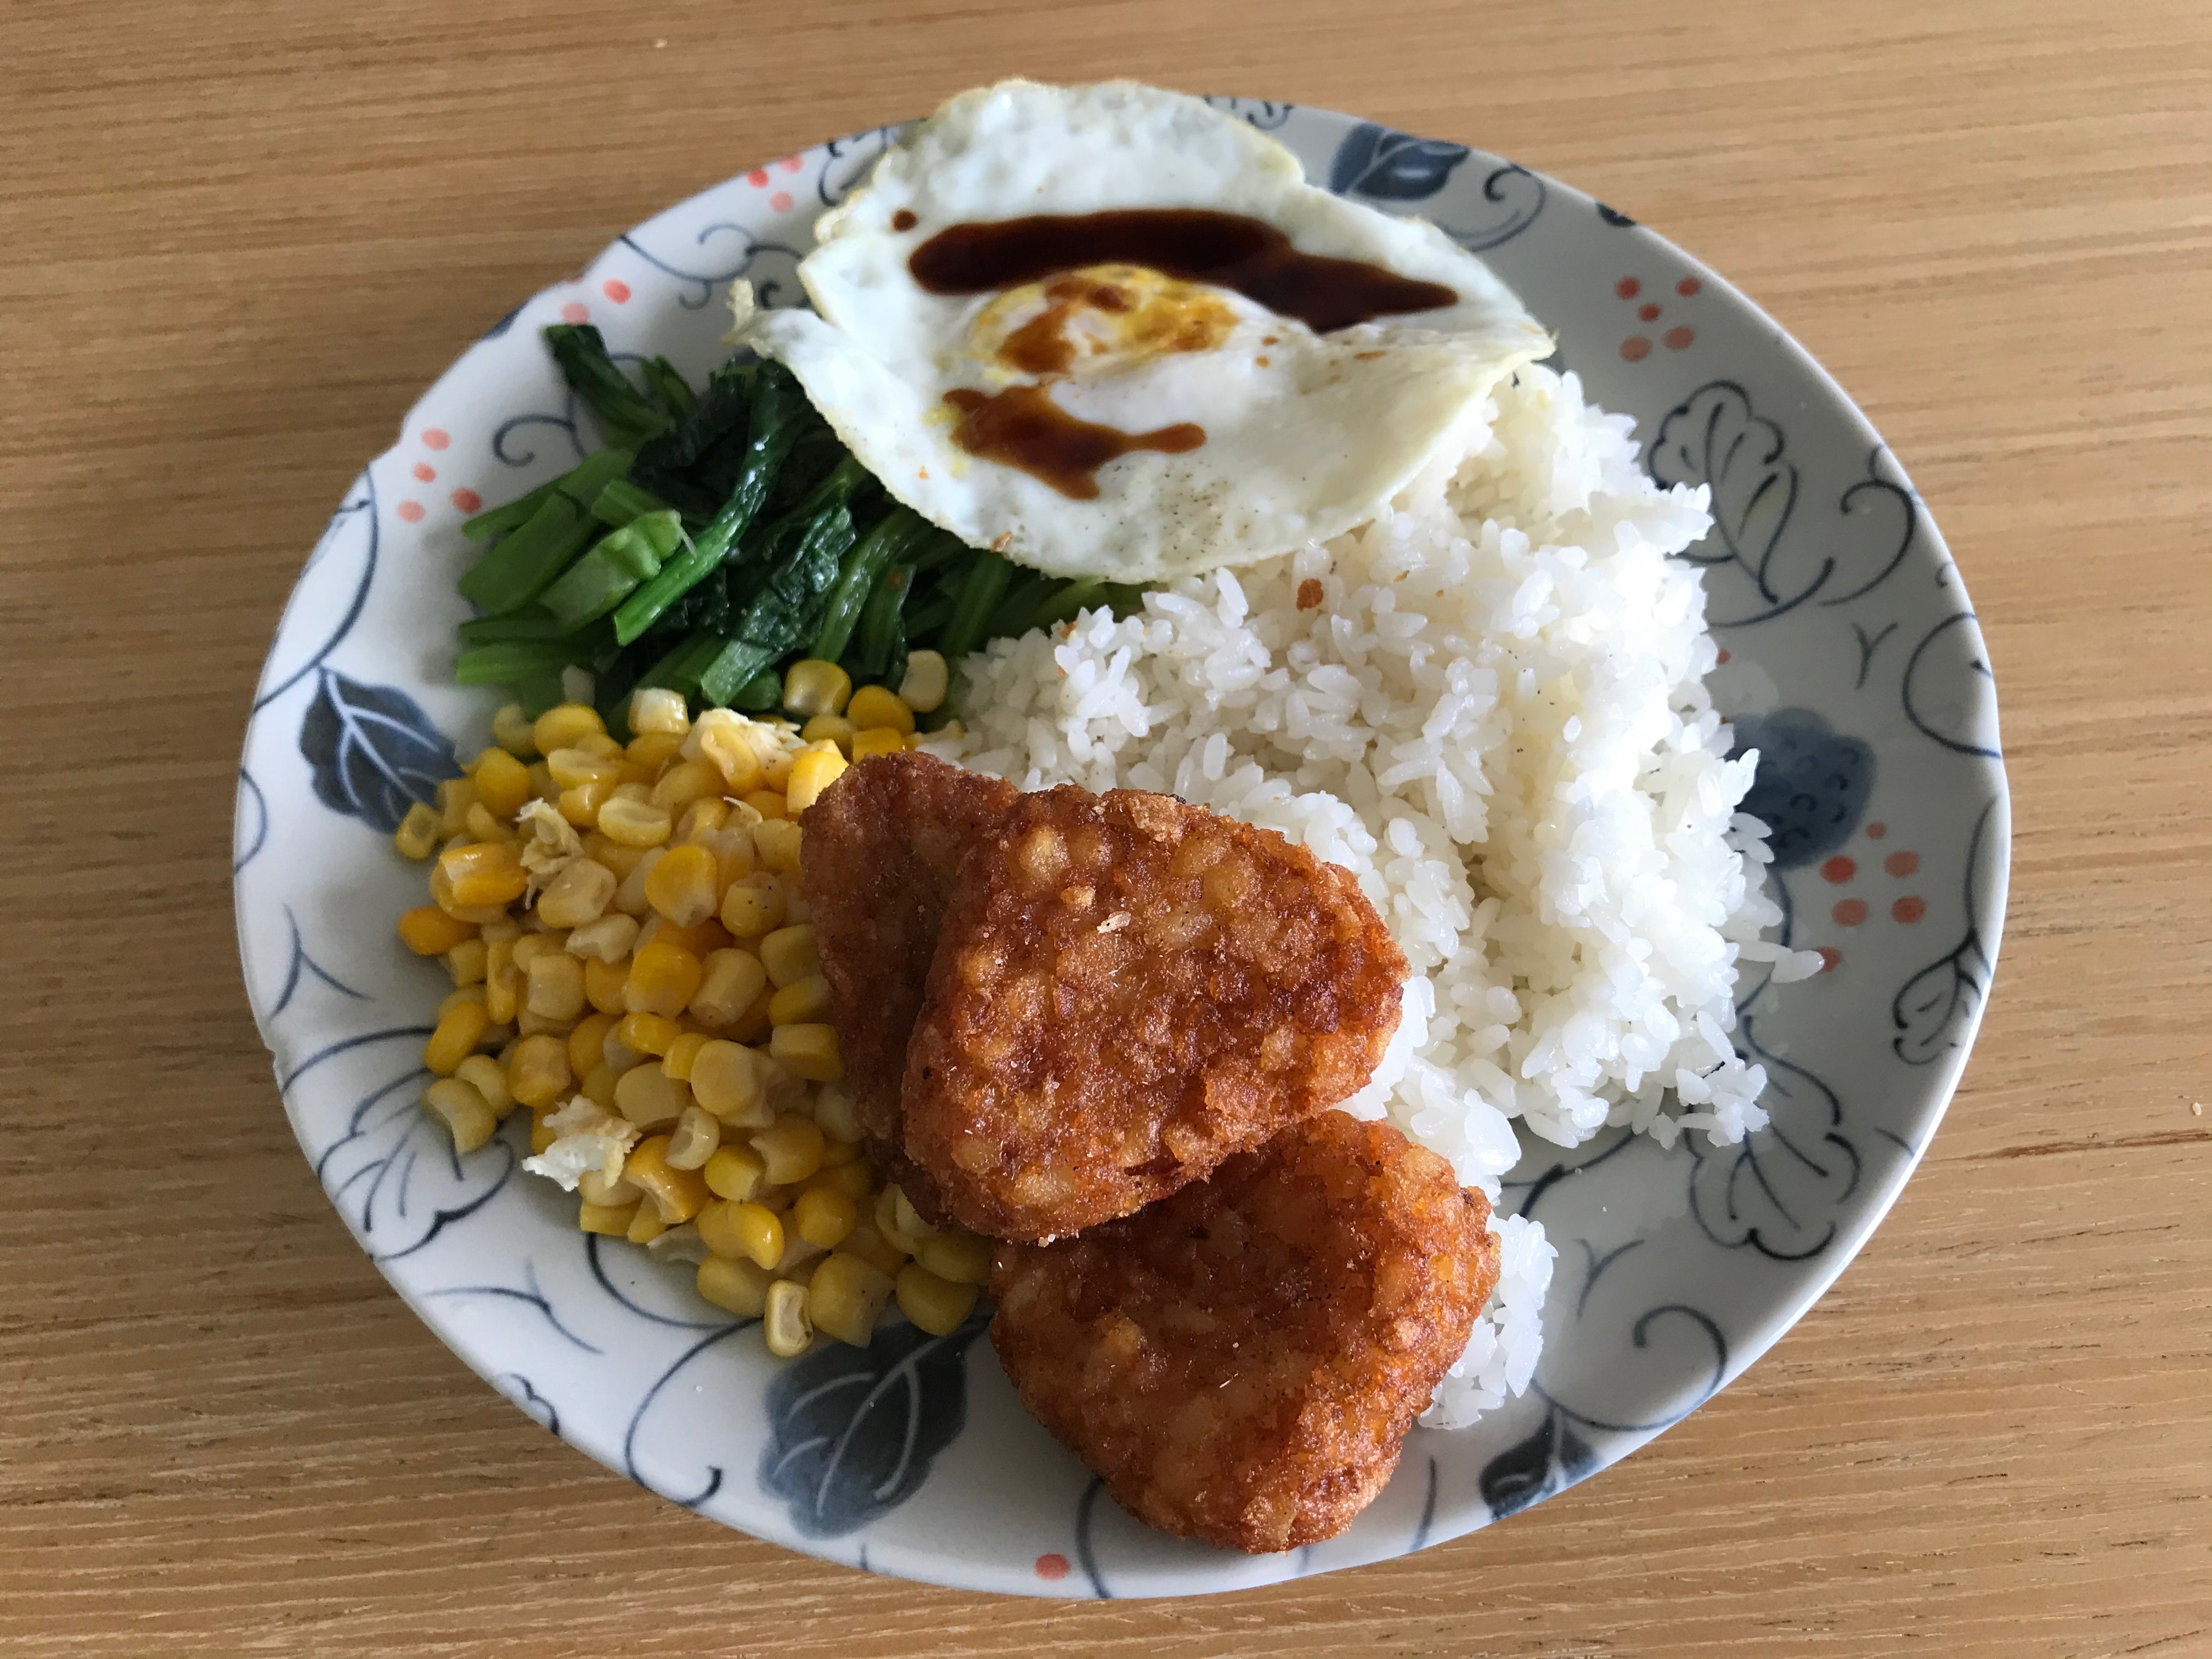fried_eggs: (772, 78, 1512, 584)
rice: (1181, 490, 1791, 1150)
triangle_hash_brown: (801, 746, 1500, 1554)
water_spinach: (455, 349, 1007, 723)
